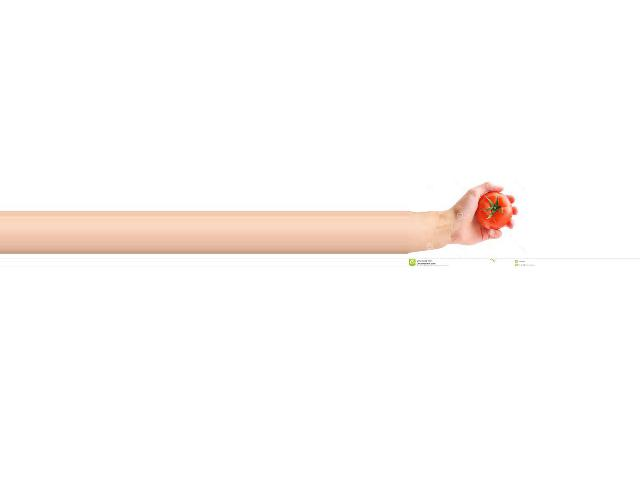tomato: (476, 192, 512, 230)
